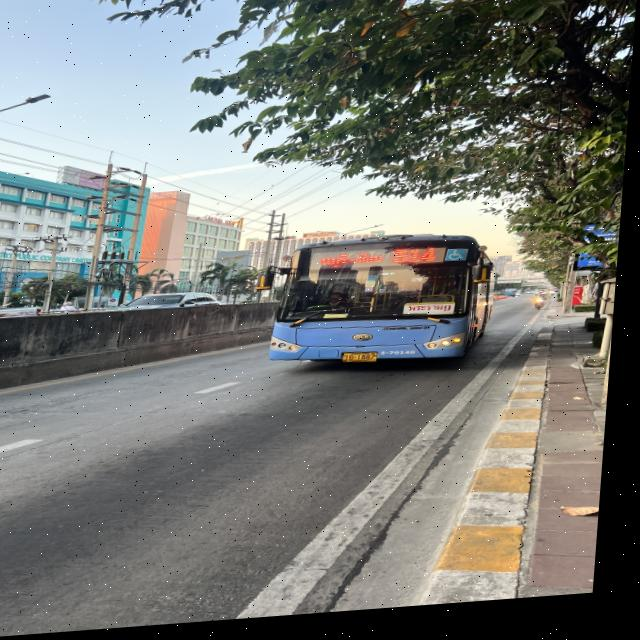BMTA-bus: (274, 243, 498, 372)
Bus Line Number: (392, 251, 447, 273)
Bus Side Number: (386, 353, 424, 364)
Destination Sign: (409, 309, 460, 324)
